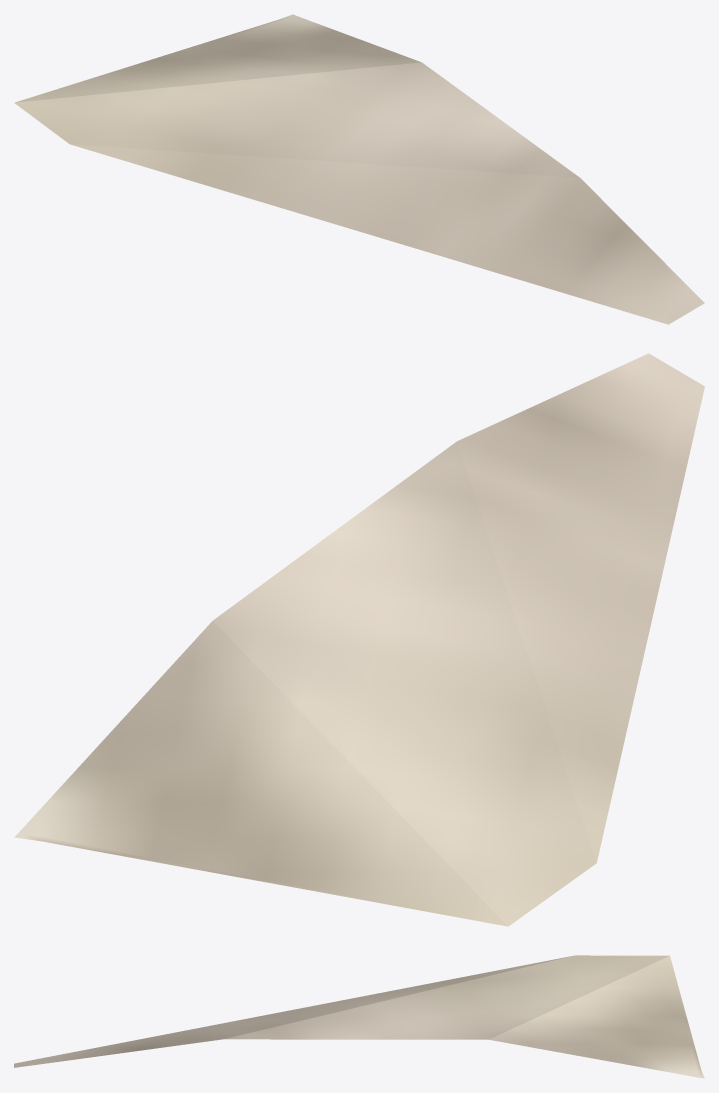
3 views of the same model, one above another, from view 1: azimuth 30°, elevation 25°; view 2: azimuth 150°, elevation 25°; view 3: azimuth 270°, elevation 25° (orthographic). The views are drawn at different scales.
Bounding box in the file's own units: 0.0292 × 0.00432 × 0.0692.
Materials: 1 (1 with a texture image).
